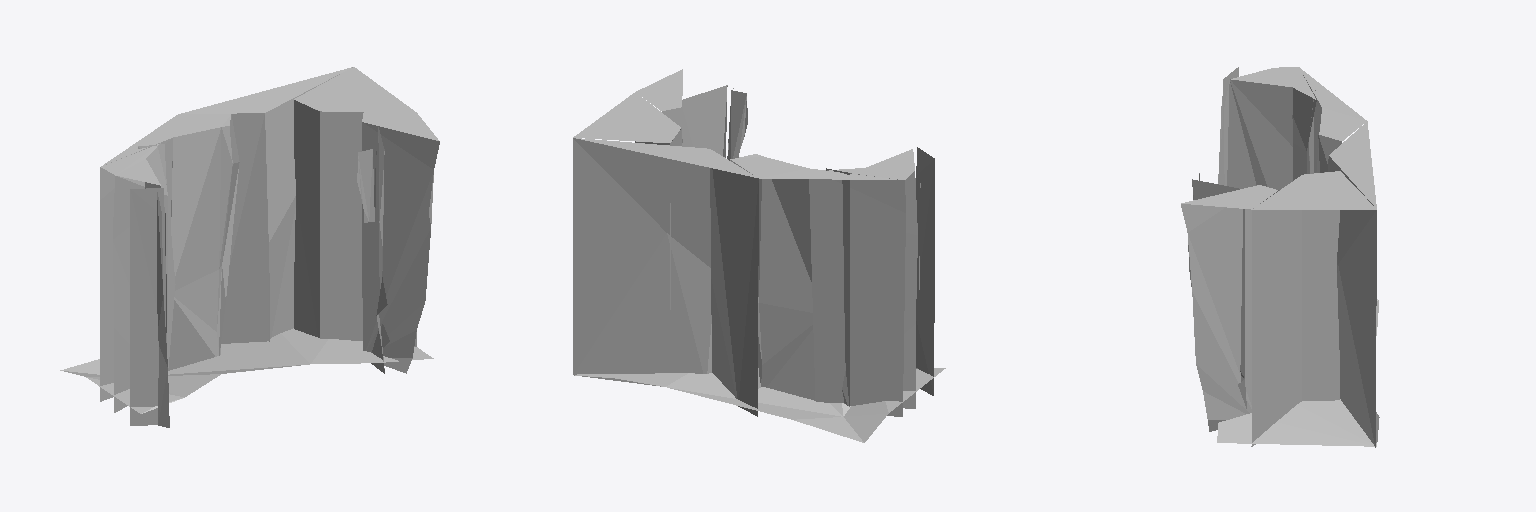
File: Glacier.obj
3 views of the same model, side by side, from view 1: azimuth 30°, elevation 25°; view 2: azimuth 150°, elevation 25°; view 3: azimuth 270°, elevation 25° (orthographic).
Parts seen in each view (by area): view 1: VBSP_Object.model_0; view 2: VBSP_Object.model_0; view 3: VBSP_Object.model_0.
Part boxes in pixels (x1,y1,x2,y2): VBSP_Object.model_0: (60,67,439,427); VBSP_Object.model_0: (573,69,945,442); VBSP_Object.model_0: (1181,67,1379,447).
Bounding box in the file's own units: 2673 × 2096 × 1568.